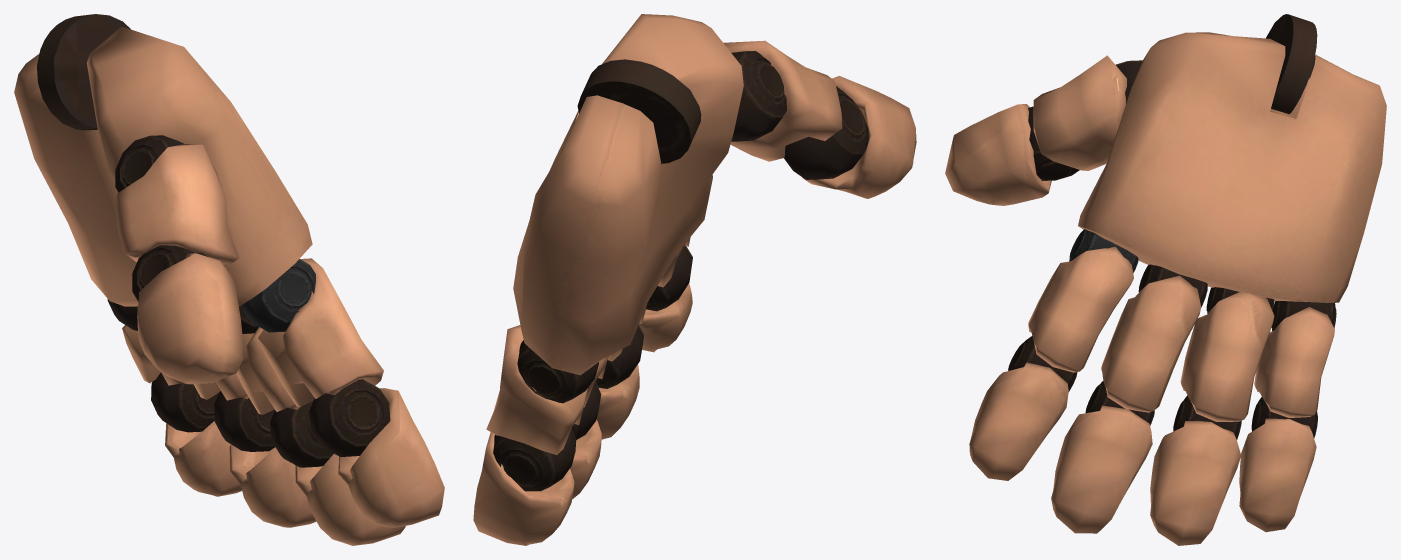
The model's file is handL.fbx.
3 views of the same model, side by side, from view 1: azimuth 30°, elevation 25°; view 2: azimuth 150°, elevation 25°; view 3: azimuth 270°, elevation 25° (orthographic). The views are drawn at different scales.
Visible parts, largest first — view 1: matte_0.009, matte_22, matte_12, matte_11, matte_21, matte_42, matte_32, matte_52, matte_31, matte_51, matte_41; view 2: matte_0.009, matte_12, matte_11, matte_52, matte_51, matte_22, matte_32, matte_42; view 3: matte_0.009, matte_32, matte_31, matte_42, matte_21, matte_41, matte_22, matte_12, matte_11, matte_52, matte_51.
Boxes of the visible parts, left/top/right/bottom form: matte_0.009: left=14, top=14, right=312, bottom=306; matte_22: left=309, top=379, right=444, bottom=527; matte_12: left=132, top=245, right=243, bottom=384; matte_11: left=115, top=135, right=239, bottom=264; matte_21: left=240, top=258, right=383, bottom=406; matte_42: left=214, top=391, right=316, bottom=527; matte_32: left=270, top=401, right=405, bottom=545; matte_52: left=151, top=372, right=241, bottom=496; matte_31: left=236, top=306, right=300, bottom=414; matte_51: left=107, top=299, right=187, bottom=385; matte_41: left=193, top=373, right=248, bottom=400; matte_0.009: left=513, top=14, right=743, bottom=375; matte_12: left=784, top=76, right=916, bottom=198; matte_11: left=723, top=40, right=842, bottom=161; matte_52: left=473, top=428, right=576, bottom=545; matte_51: left=486, top=325, right=598, bottom=454; matte_22: left=638, top=246, right=692, bottom=352; matte_32: left=596, top=325, right=644, bottom=439; matte_42: left=570, top=381, right=601, bottom=498; matte_0.009: left=1078, top=14, right=1386, bottom=302; matte_32: left=1051, top=381, right=1154, bottom=533; matte_31: left=1101, top=264, right=1207, bottom=412; matte_42: left=1150, top=395, right=1241, bottom=545; matte_21: left=1028, top=229, right=1138, bottom=372; matte_41: left=1180, top=287, right=1274, bottom=421; matte_22: left=969, top=336, right=1077, bottom=480; matte_12: left=945, top=104, right=1079, bottom=205; matte_11: left=1033, top=55, right=1142, bottom=170; matte_52: left=1239, top=397, right=1317, bottom=532; matte_51: left=1254, top=301, right=1336, bottom=417.
Size of the model in its own units: 329 by 475 by 535.
1 material, 1 textured.
